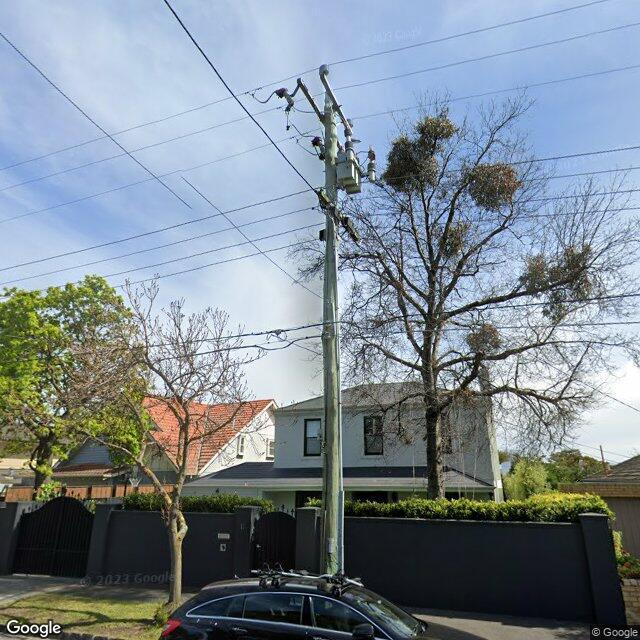HV-transmission: (277, 64, 357, 138)
crossarm: (320, 74, 352, 136), (297, 78, 325, 123)
timber-pole: (322, 102, 342, 575)
transformer: (336, 144, 362, 194)
